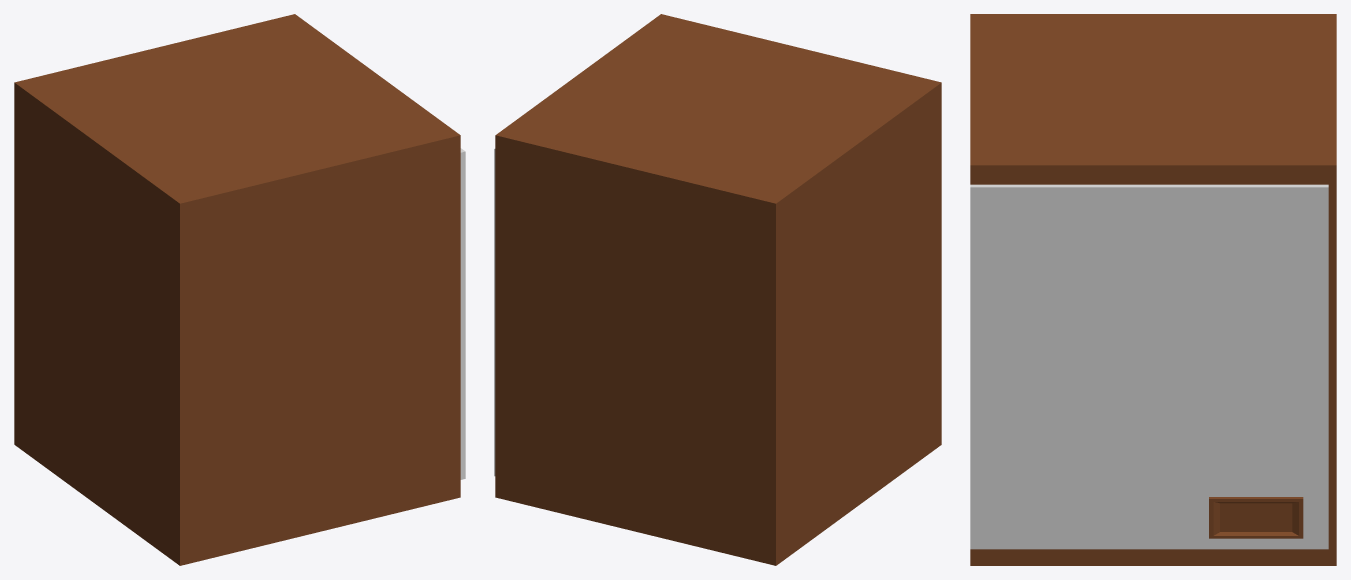
The model's file is SM_Cupboard_Right.fbx.
3 renders of one model, left to right at view 1: azimuth 30°, elevation 25°; view 2: azimuth 150°, elevation 25°; view 3: azimuth 270°, elevation 25°, orthographic. The views are drawn at different scales.
Visible parts, largest first — view 1: Cube.015; view 2: Cube.015; view 3: Cube.015, Cube.016.
Part boxes in pixels (<box>): Cube.015: <box>14,14,465,565</box>; Cube.015: <box>494,14,941,565</box>; Cube.015: <box>970,14,1336,565</box>; Cube.016: <box>1209,497,1303,538</box>.
Bounding box in the file's own units: 815 × 976 × 809.
